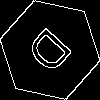D: (25, 25, 81, 83)
